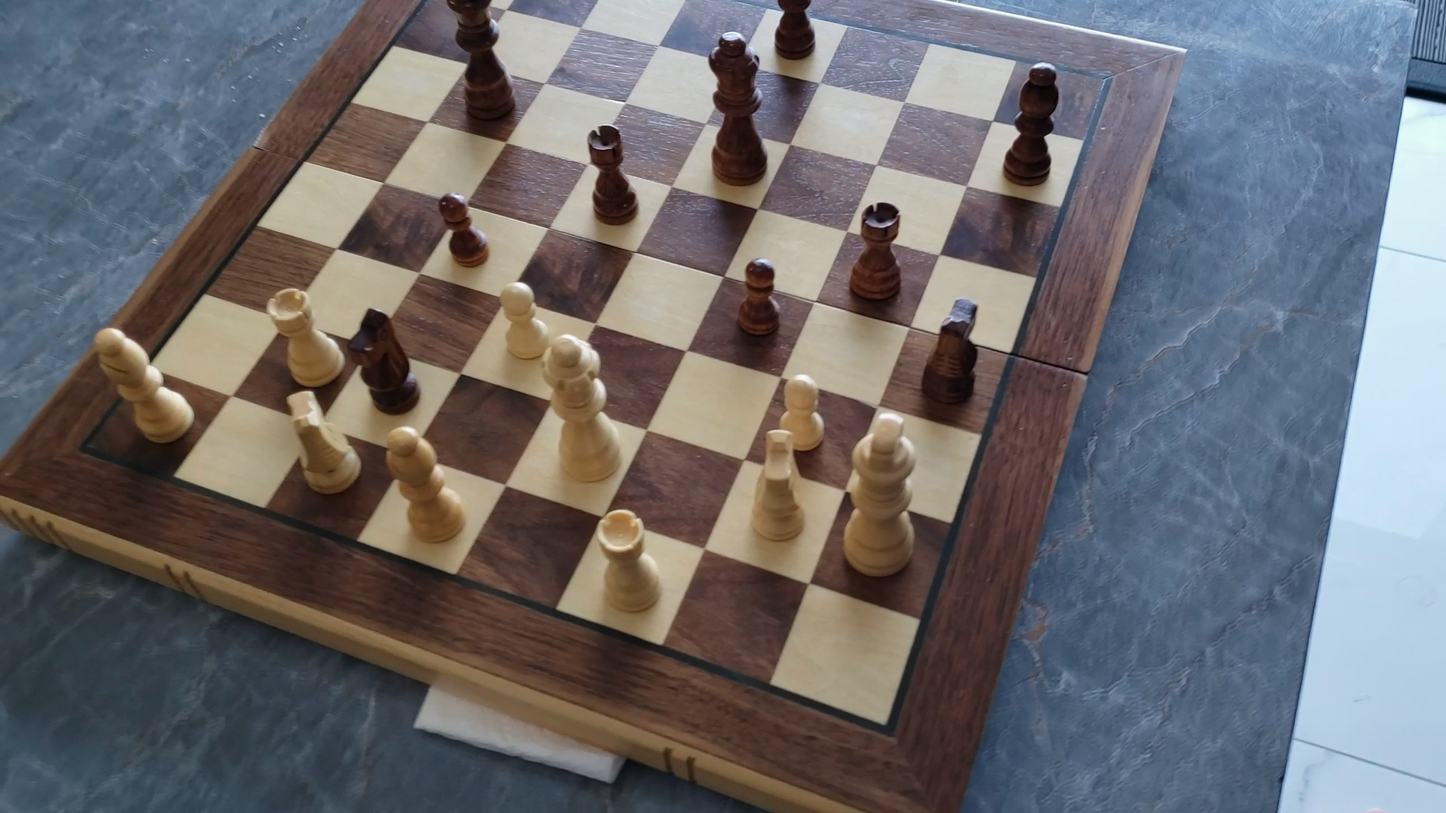black-bishop: (990, 59, 1075, 187)
black-king: (439, 0, 520, 126)
black-knight: (351, 304, 421, 415), (920, 295, 982, 404)
black-pawn: (434, 187, 491, 270), (735, 254, 782, 339)
black-queen: (700, 26, 771, 195)
black-rook: (848, 199, 905, 304), (584, 122, 640, 226)
white-bishop: (88, 324, 198, 448), (382, 423, 471, 547)
white-king: (838, 407, 922, 583)
white-knight: (282, 388, 363, 499), (742, 427, 811, 551)
white-pawn: (493, 278, 552, 365), (773, 368, 827, 456)
white-queen: (537, 331, 625, 487)
white-rook: (263, 283, 348, 392), (591, 505, 667, 619)
